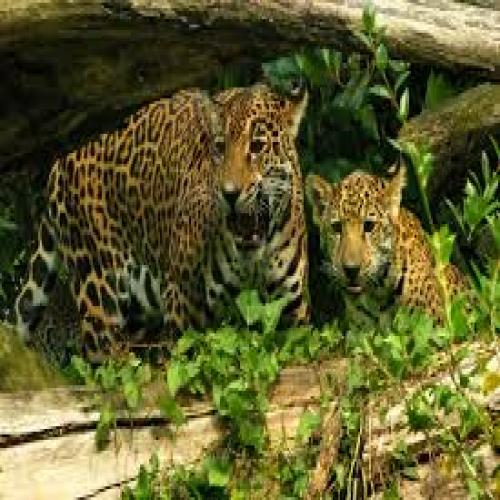jaguar_not-endangered: (58, 92, 305, 326), (312, 171, 469, 325)
